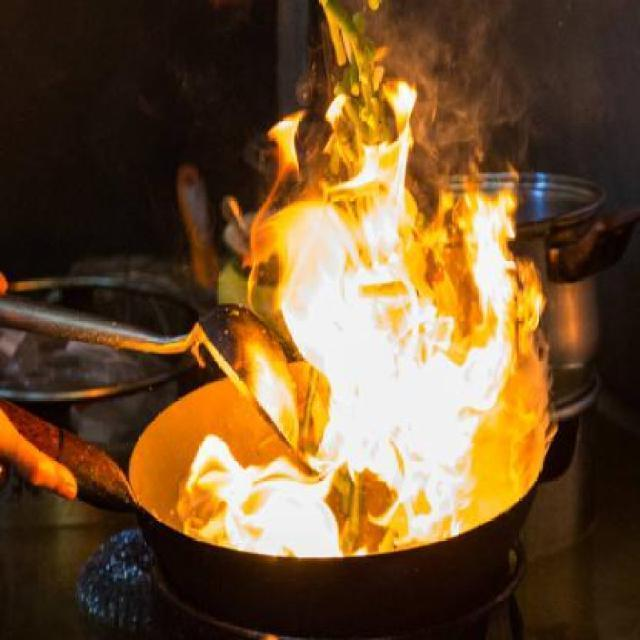Fire: (153, 60, 560, 568)
Smoke: (236, 0, 536, 548)
